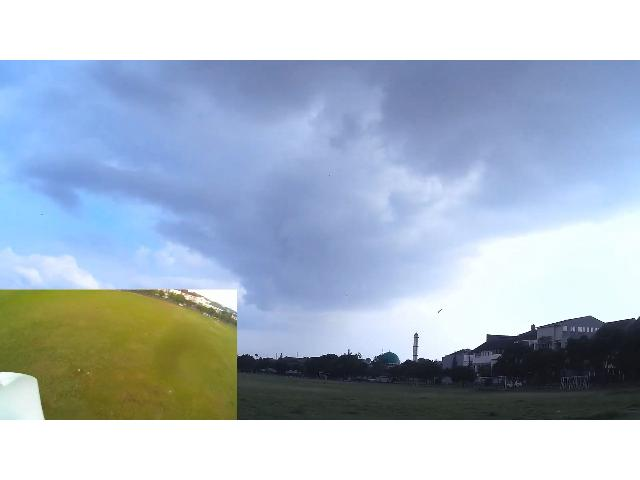Anti-Drone: (428, 301, 452, 321)
